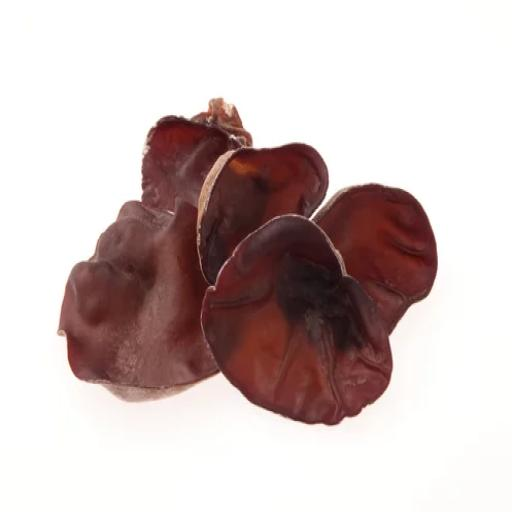Wood Ear Mushroom: (36, 97, 451, 437)
